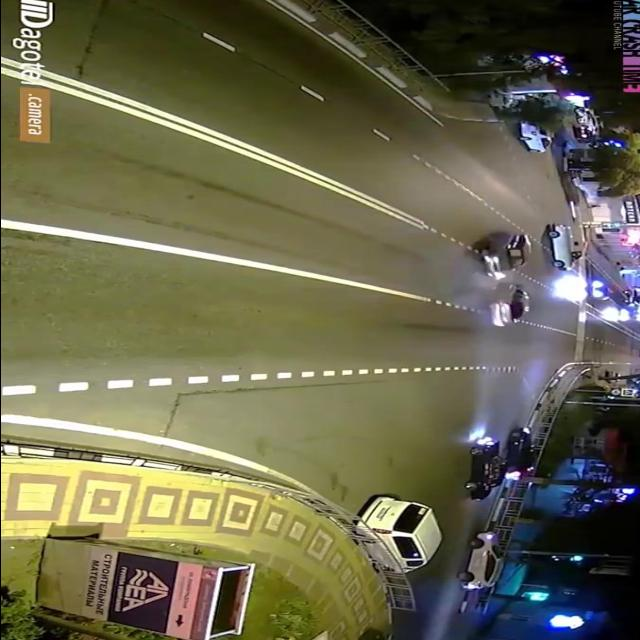accident: (468, 230, 540, 330)
non_accident: (456, 422, 552, 506)
